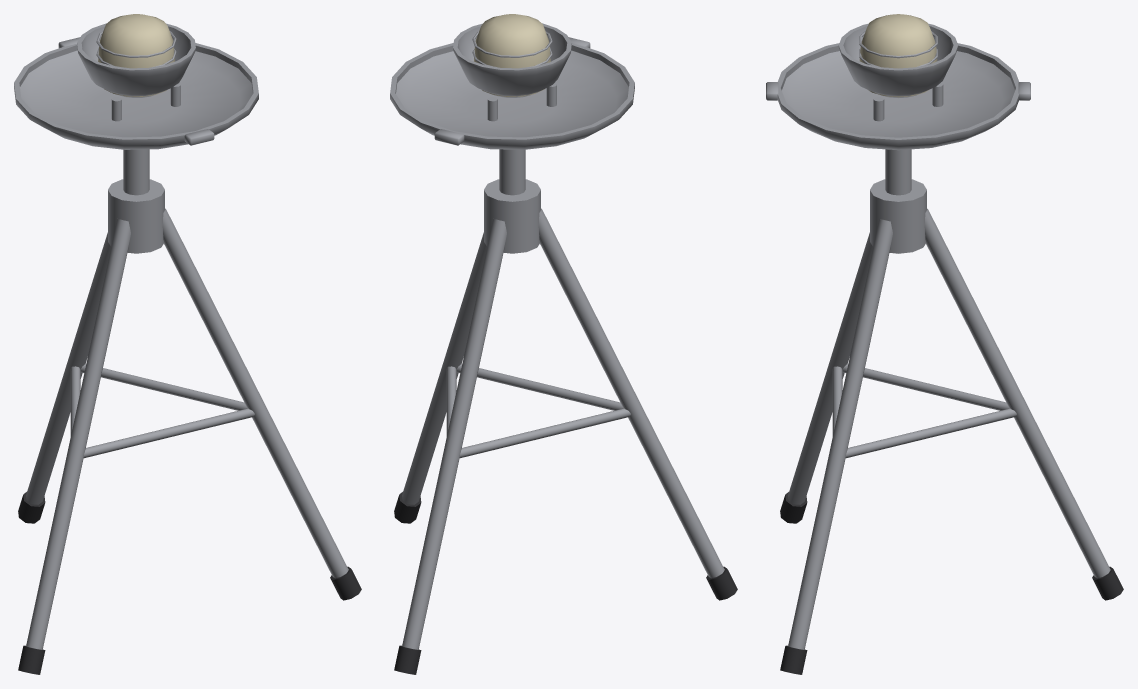
Rendered from lighting-flame-stand.glb.
3 renders of one model, left to right at view 1: azimuth 30°, elevation 25°; view 2: azimuth 150°, elevation 25°; view 3: azimuth 270°, elevation 25°, orthographic.
Parts seen in each view (by area): view 1: SM_Jam_LightingFlameStand; view 2: SM_Jam_LightingFlameStand; view 3: SM_Jam_LightingFlameStand.
Part boxes in pixels (x1,y1,x2,y2): SM_Jam_LightingFlameStand: [14, 14, 361, 674]; SM_Jam_LightingFlameStand: [390, 14, 737, 674]; SM_Jam_LightingFlameStand: [766, 14, 1123, 674].
Size of the model in its own units: 0.5496 by 0.8919 by 0.5.
